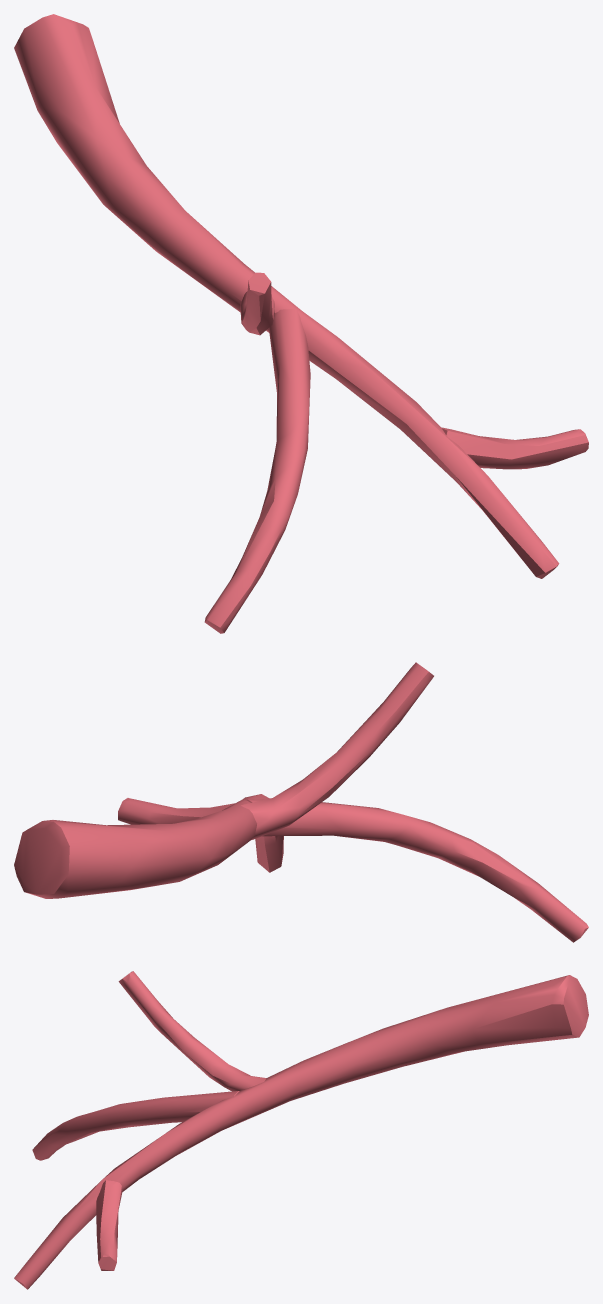
The model's file is fma68683_cx179.glb.
The picture shows the model from 3 angles, top to bottom: view 1: azimuth 30°, elevation 25°; view 2: azimuth 150°, elevation 25°; view 3: azimuth 270°, elevation 25°; orthographic projection. The views are drawn at different scales.
Parts seen in each view (by area): view 1: FMA68683_CX179; view 2: FMA68683_CX179; view 3: FMA68683_CX179.
Part boxes in pixels (left/top/right/bottom): FMA68683_CX179: left=14, top=14, right=588, bottom=633; FMA68683_CX179: left=14, top=662, right=588, bottom=942; FMA68683_CX179: left=14, top=971, right=588, bottom=1289.
Bounding box in the file's own units: 0.0351 × 0.0273 × 0.0543.
